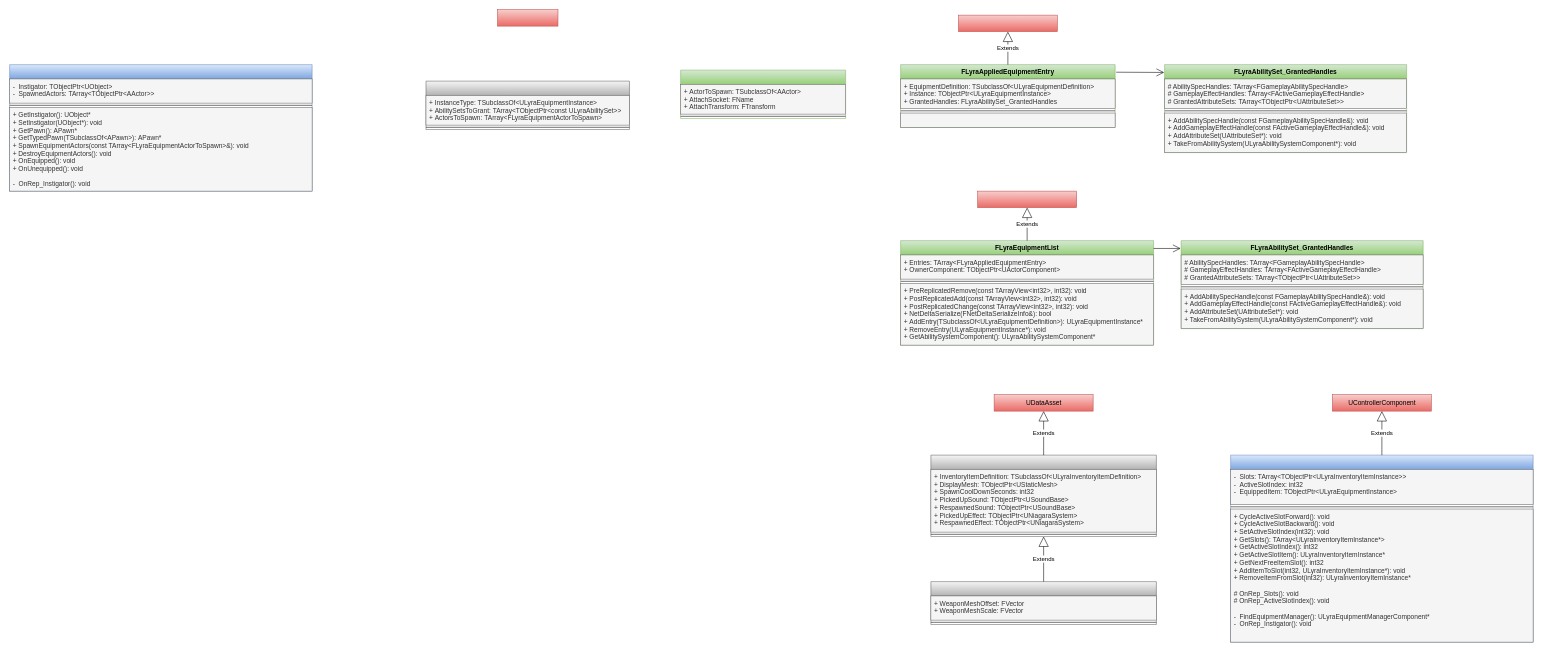
This 1543x653 diagram has some shape labels left out. Each missing label, with the box of its shape:
+ GetDebugString(): FString: (900, 112, 1115, 127)
FFastArraySerializer: (977, 191, 1077, 208)
FFastArraySerializerItem: (958, 15, 1057, 32)
FLyraEquipmentActorToSpawn: (680, 70, 846, 119)
ULyraEquipmentDefinition: (425, 81, 629, 130)
ULyraEquipmentInstance: (9, 64, 312, 191)
ULyraPickupDefinition: (930, 455, 1156, 537)
ULyraQuickBarComponent: (1230, 455, 1533, 642)
ULyraWeaponPickupDefinition: (930, 581, 1156, 625)
UObject: (497, 9, 558, 26)
